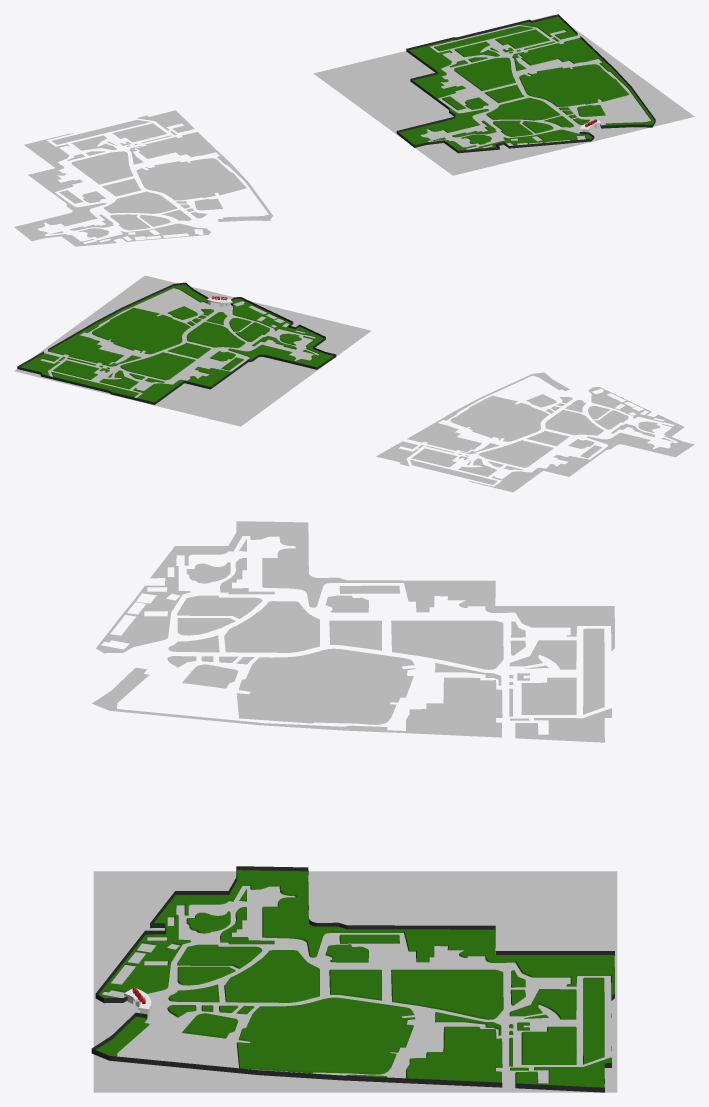
The model's file is map20120712.obj.
3 renders of one model, top to bottom at view 1: azimuth 30°, elevation 25°; view 2: azimuth 150°, elevation 25°; view 3: azimuth 270°, elevation 25°, orthographic. The views are drawn at different scales.
Visible parts, largest first — view 1: reference_Plane, ground_Plane.017, ground_backup_Plane.015, walls_Plane.016; view 2: reference_Plane, ground_Plane.017, ground_backup_Plane.015, walls_Plane.016; view 3: reference_Plane, ground_backup_Plane.015, ground_Plane.017, walls_Plane.016.
Boxes of the visible parts, x1,y1,x2,y2 form: reference_Plane: (313, 14, 694, 175); ground_Plane.017: (399, 16, 654, 152); ground_backup_Plane.015: (14, 110, 272, 246); walls_Plane.016: (396, 14, 655, 153); reference_Plane: (14, 275, 371, 426); ground_Plane.017: (20, 284, 333, 402); ground_backup_Plane.015: (376, 372, 694, 492); walls_Plane.016: (17, 282, 336, 404); reference_Plane: (93, 871, 617, 1092); ground_backup_Plane.015: (92, 521, 614, 742); ground_Plane.017: (94, 870, 614, 1092); walls_Plane.016: (91, 866, 614, 1092).
Bounding box in the file's own units: 38.73 × 0.4999 × 15.06.
